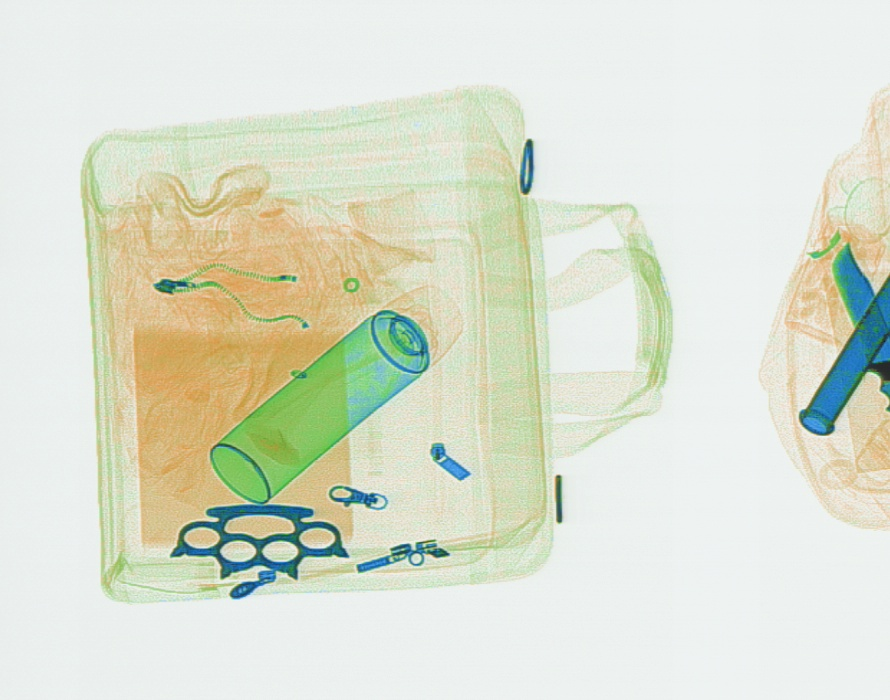knife: (829, 241, 888, 406)
pressure: (208, 282, 466, 504)
